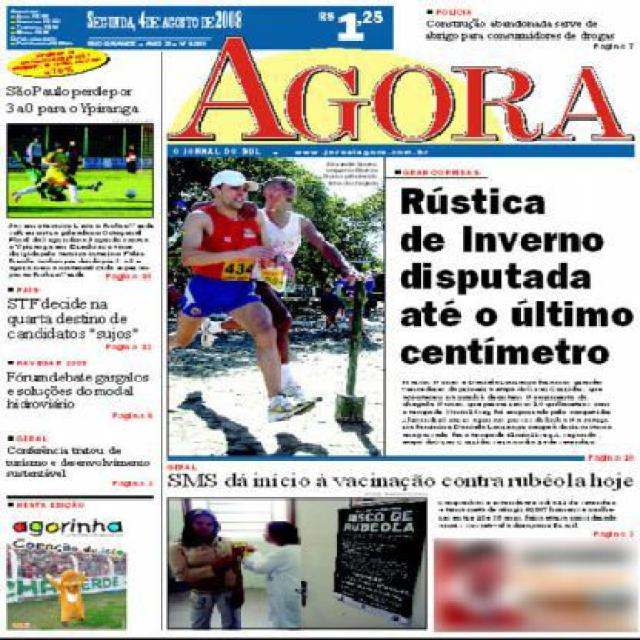Person: (179, 174, 373, 411), (162, 169, 312, 426), (162, 500, 246, 629), (12, 131, 142, 207), (240, 513, 308, 629), (317, 272, 380, 334)
